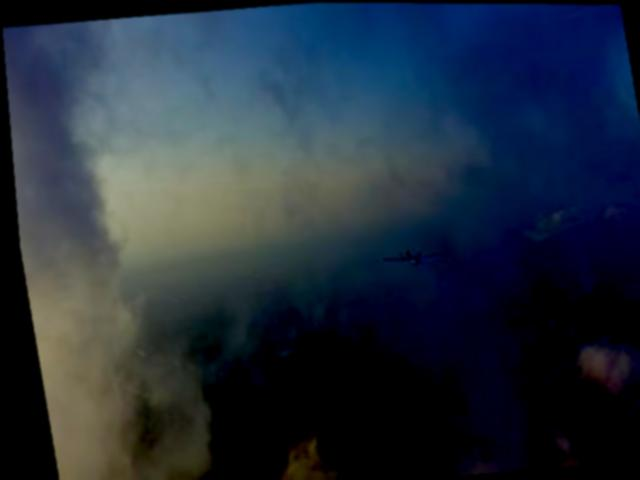uav: (372, 240, 442, 272)
